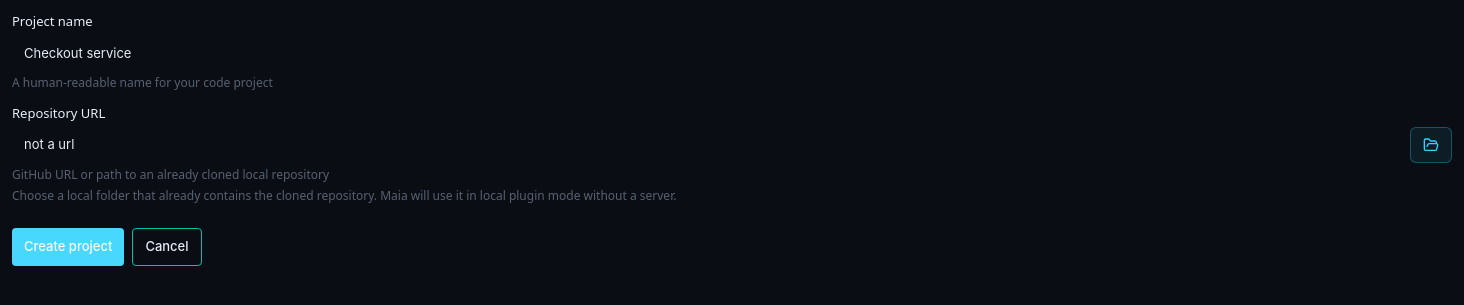
LibraryCodeProjectForm › rejects unsupported repository locations
The width and height of the screenshot is (1464, 305).
Click the button "Create project": [68, 247] box [12,228,124,266]
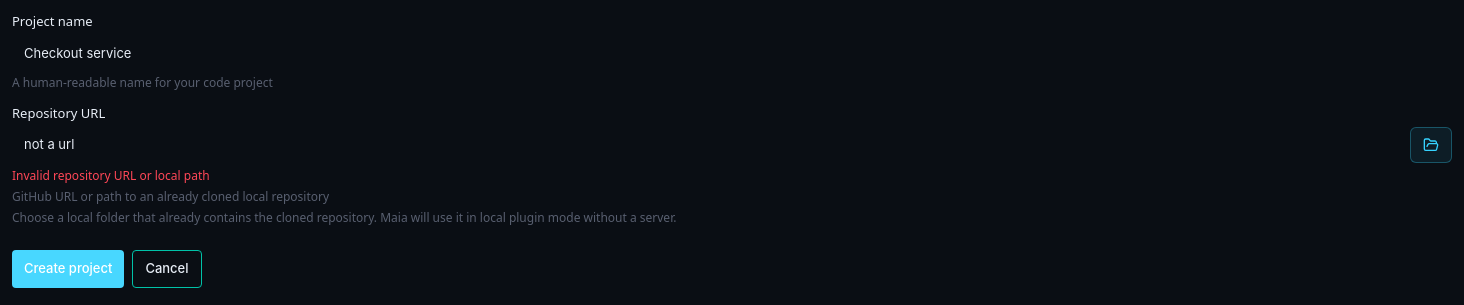
Check: the text "Invalid repository URL or local path" is shown, box [12,167,210,184]
